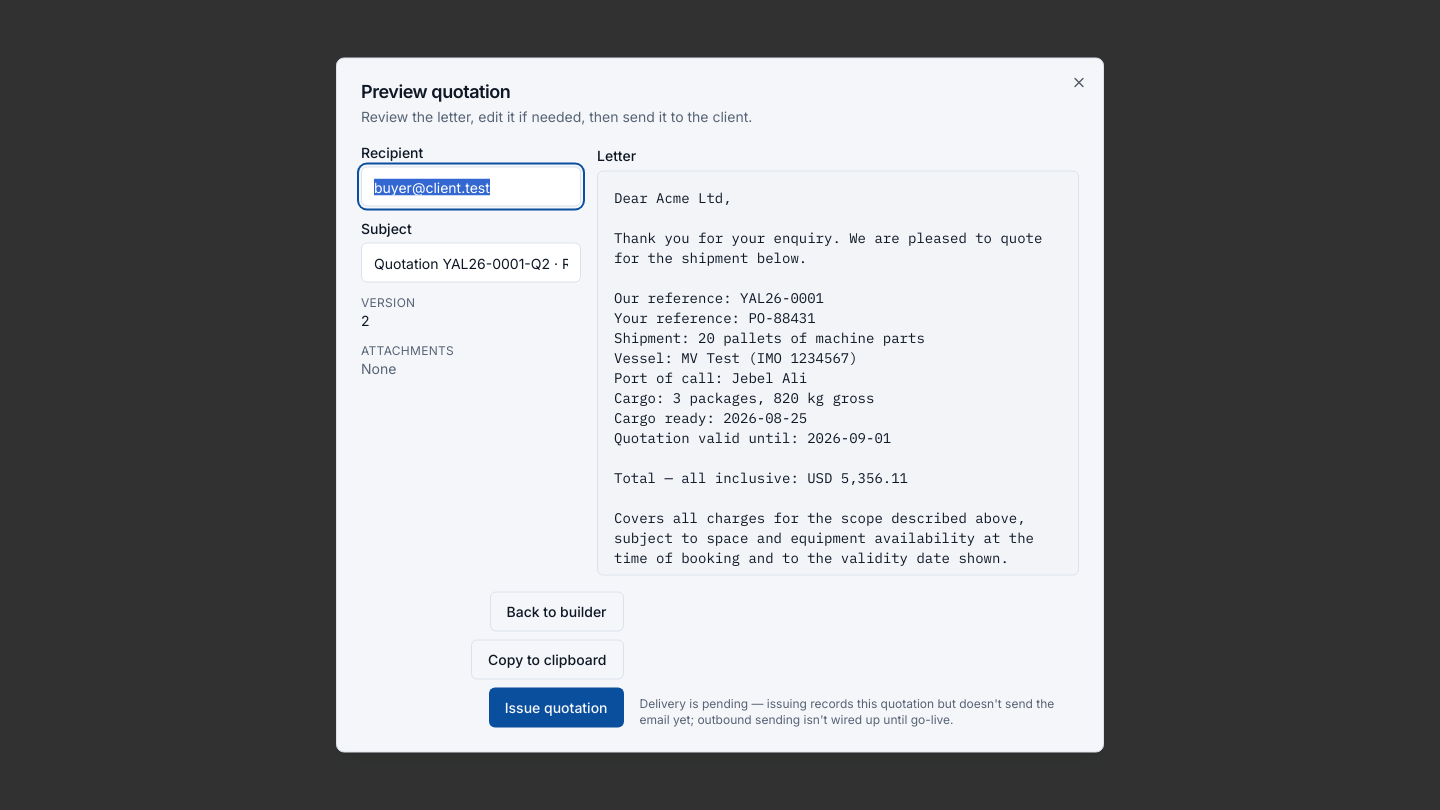
Scenario: QuotationPreviewDialog › clears a stale copy confirmation once the letter is edited afterward
Click the button "Copy to clipboard".
click(547, 660)  # box left=471, top=640, right=624, bottom=680
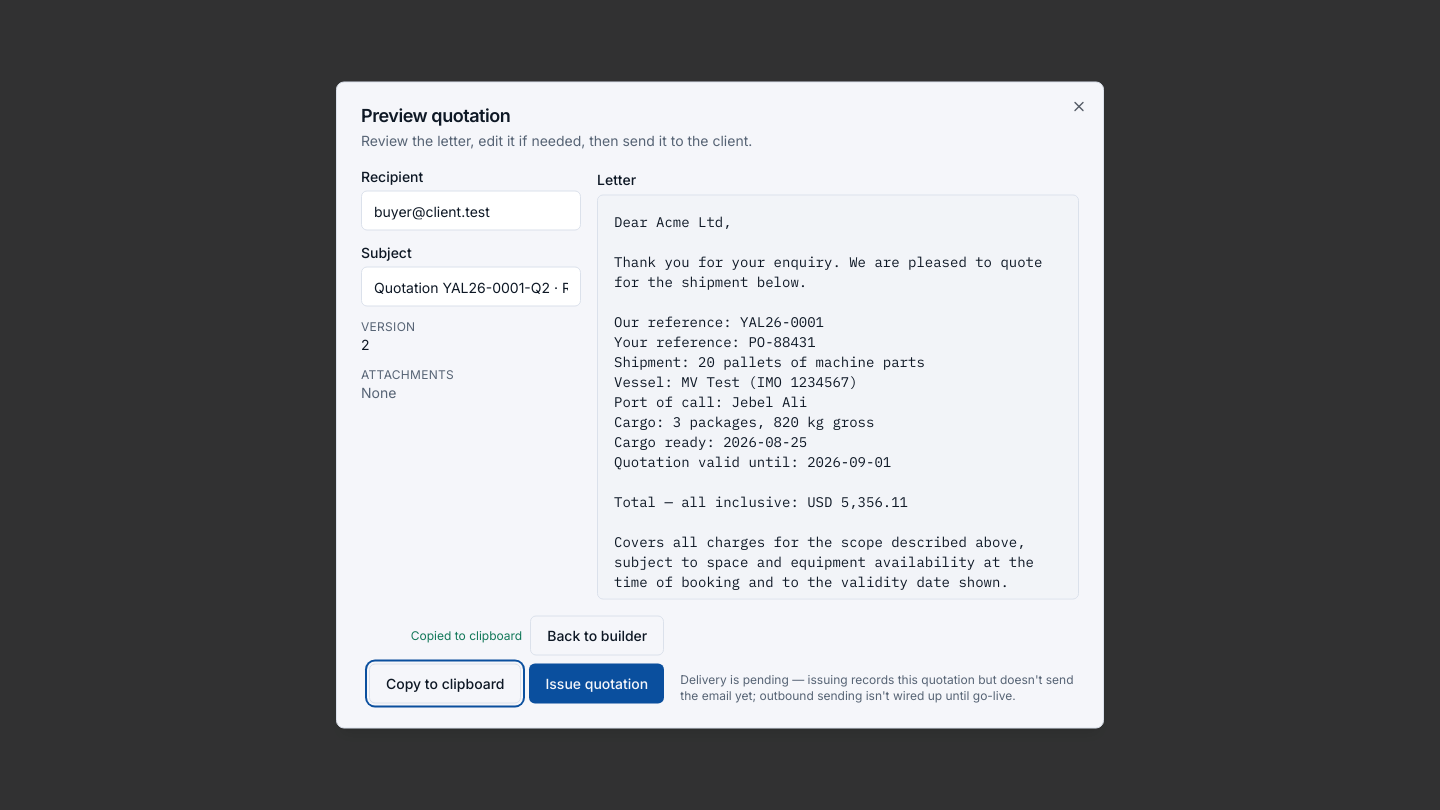
Expected: the text "Copied to clipboard" is shown, left=411, top=628, right=522, bottom=644
Type " more text" into the text box with test id "quotation-letter".
click(838, 397); type(" more text")  # box left=597, top=194, right=1079, bottom=600
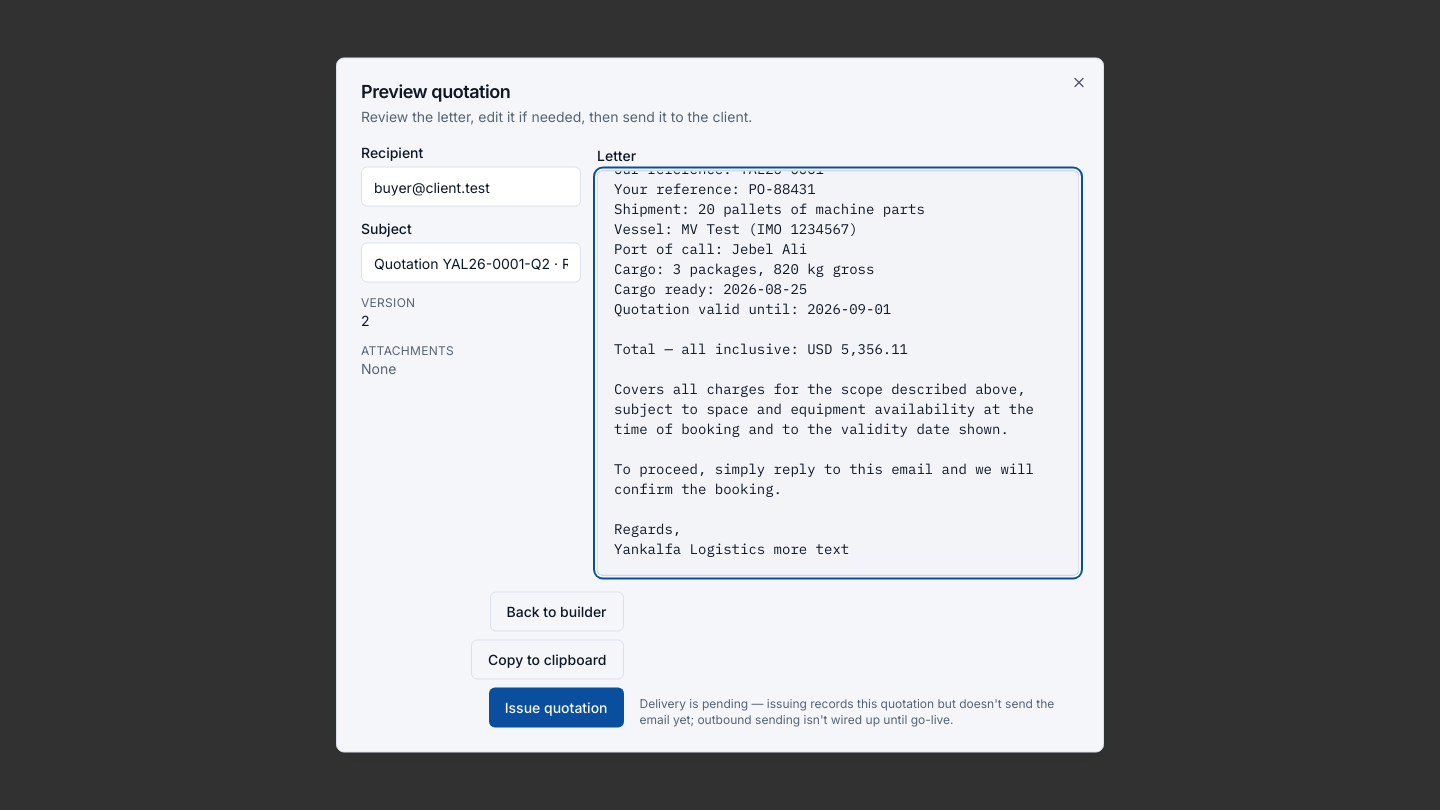
Expected: the text "Copied to clipboard" is gone
